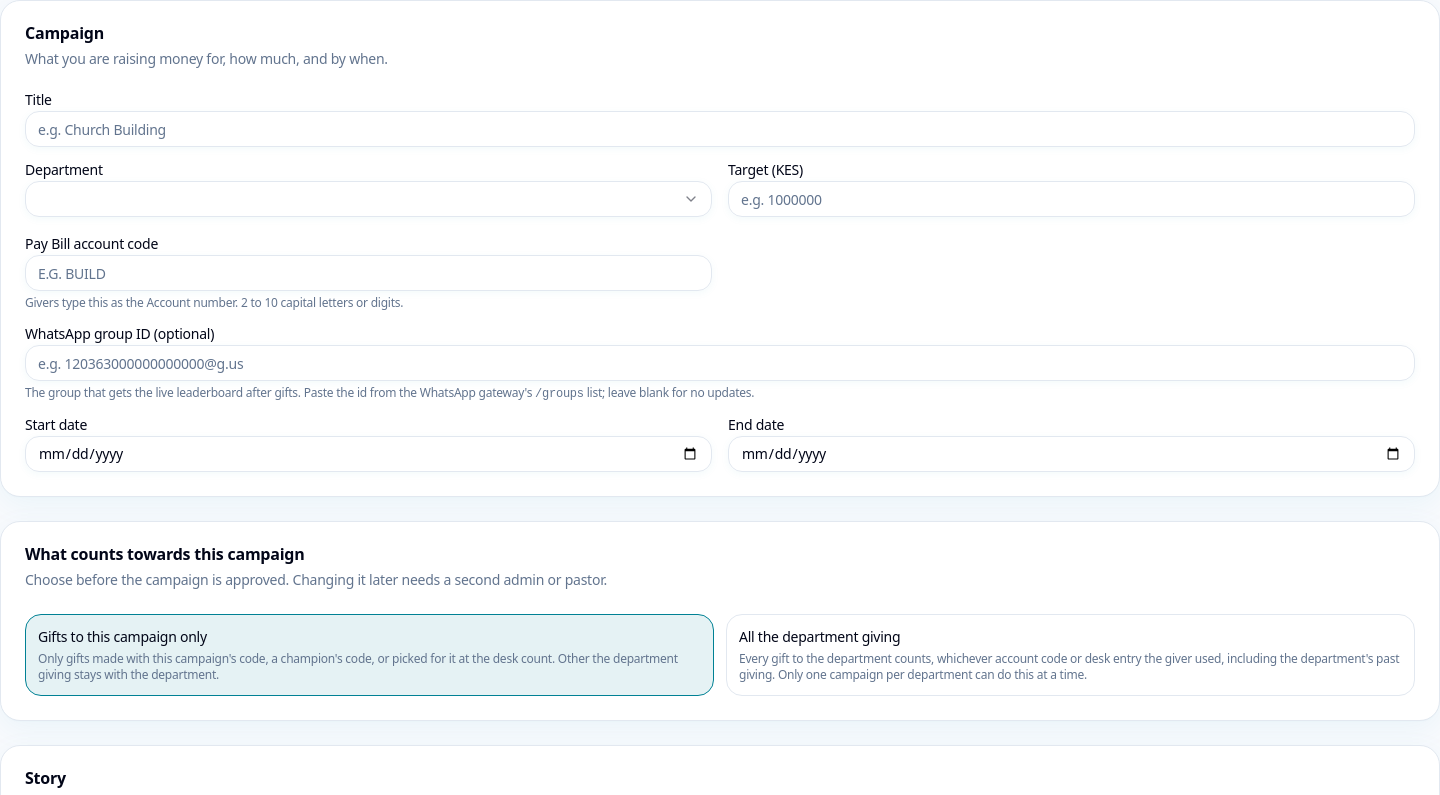
Scenario: CampaignForm › upper-cases the Pay Bill code as it is typed
In the field labelled "Pay Bill account code": point(368, 273) [25,255,712,291], type "bu ild"
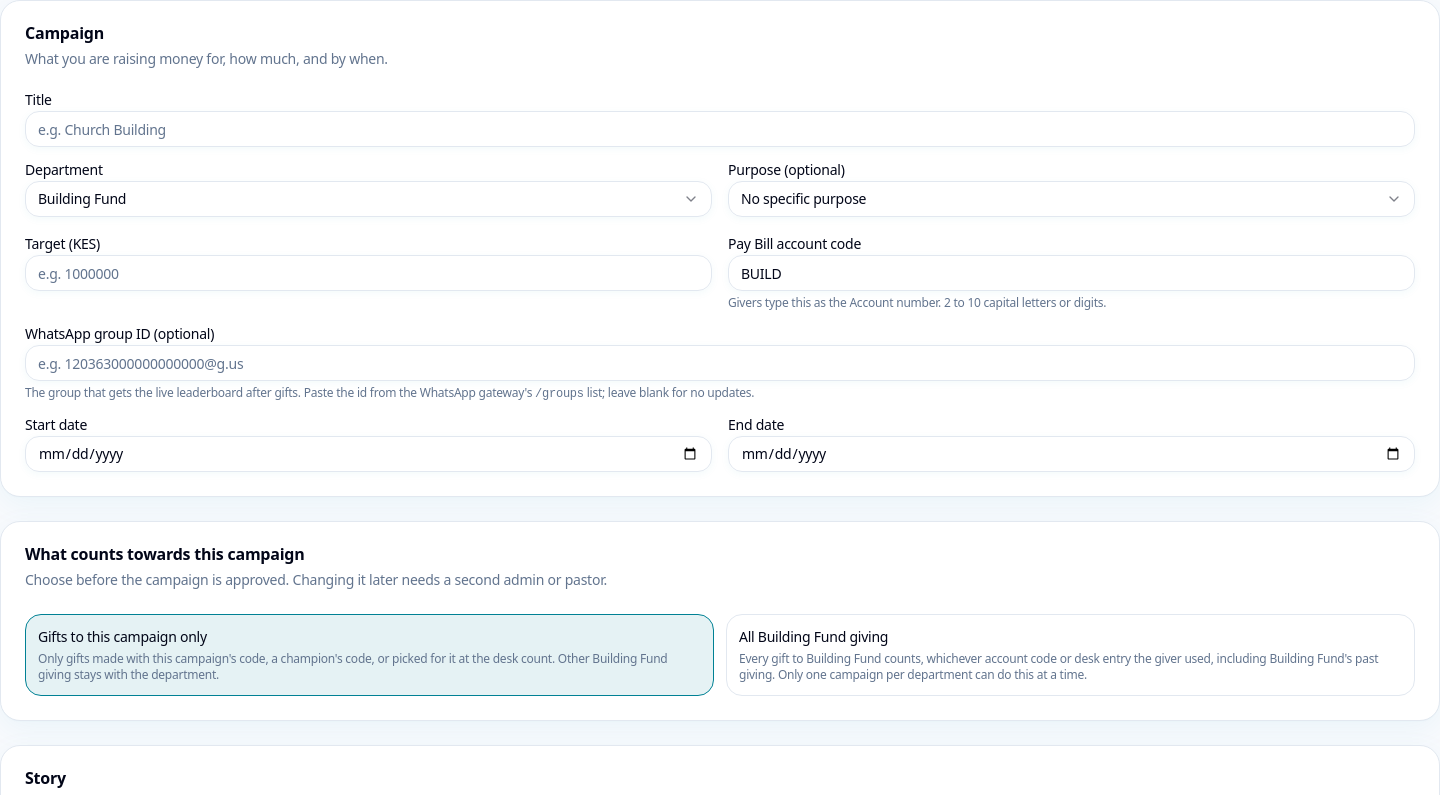
Expected: the field labelled "Pay Bill account code" holds "BUILD", [728,255,1415,291]
